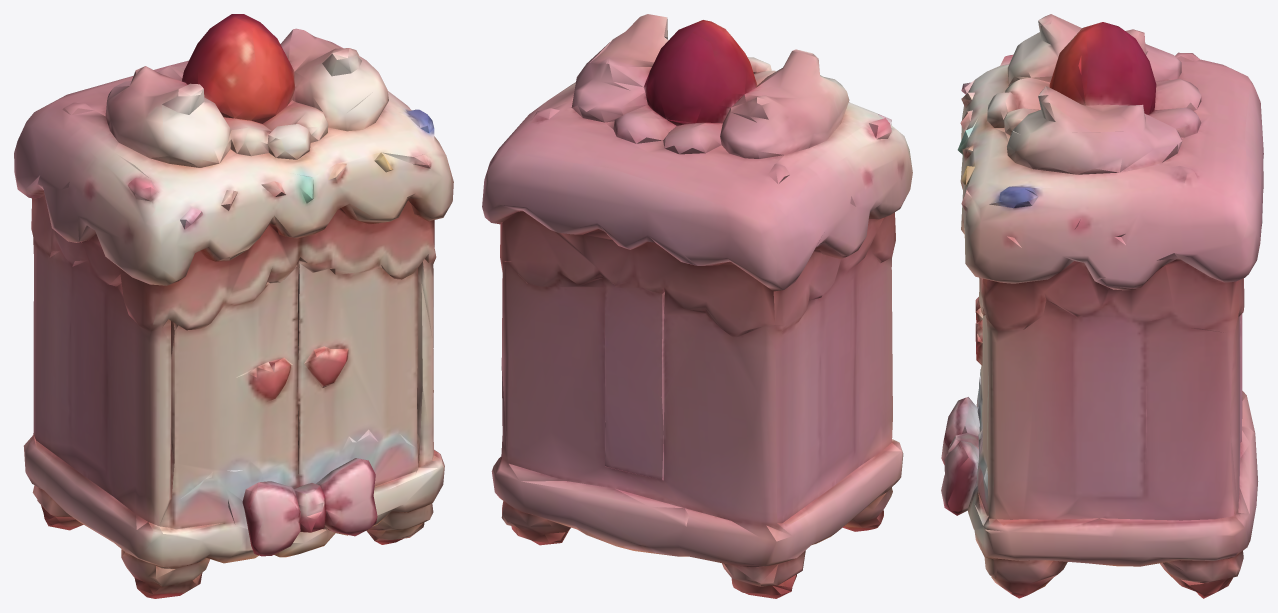
File: cabinet08.glb
The picture shows the model from 3 angles, left to right: view 1: azimuth 30°, elevation 25°; view 2: azimuth 150°, elevation 25°; view 3: azimuth 270°, elevation 25°; orthographic projection. The views are drawn at different scales.
Bounding box in the file's own units: 0.2095 × 0.3059 × 0.1742.
Materials: 1 (1 with a texture image).
